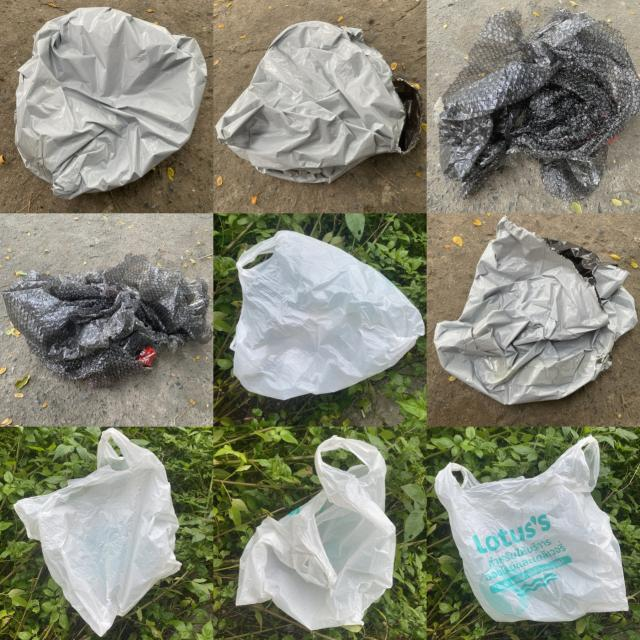Single-layer Plastic: (436, 9, 640, 200), (435, 216, 638, 404), (15, 8, 206, 199), (435, 436, 628, 621), (14, 428, 181, 636), (216, 21, 422, 182), (231, 231, 425, 399), (236, 436, 395, 629), (2, 255, 211, 386)
